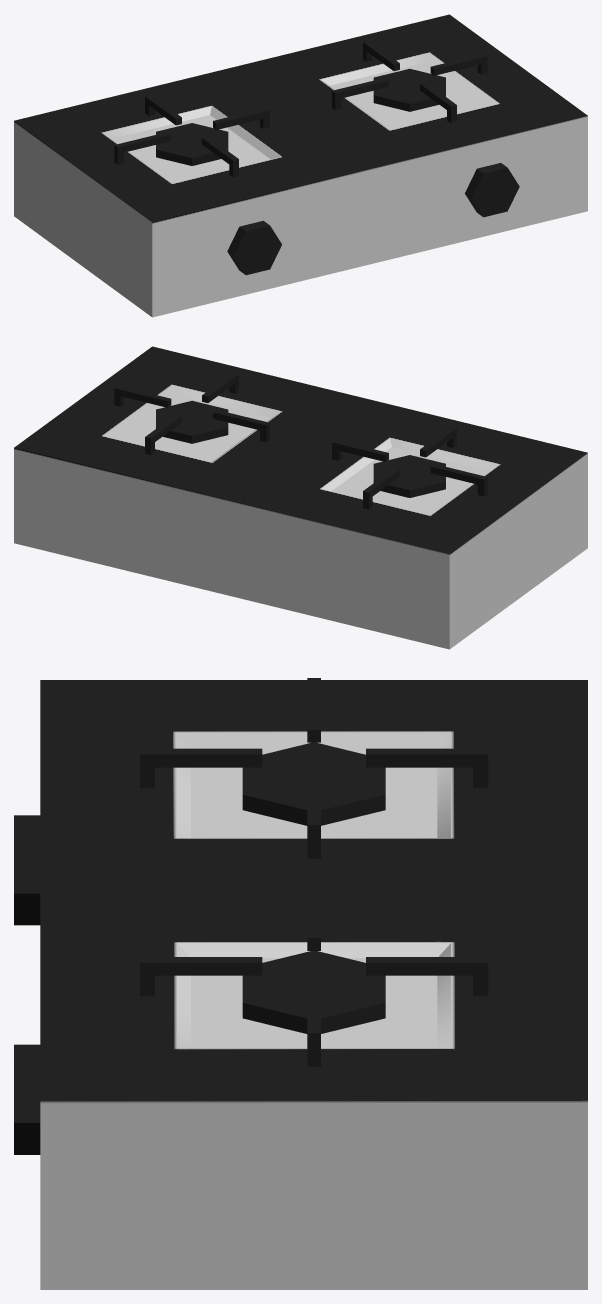
Rendered from stove2_PLY.fbx.
3 views of the same model, one above another, from view 1: azimuth 30°, elevation 25°; view 2: azimuth 150°, elevation 25°; view 3: azimuth 270°, elevation 25° (orthographic). The views are drawn at different scales.
Visible parts, largest first — view 1: stove2_PLY; view 2: stove2_PLY; view 3: stove2_PLY.
Part boxes in pixels (x1,y1,x2,y2): stove2_PLY: (14,14,587,317); stove2_PLY: (14,346,587,649); stove2_PLY: (14,678,587,1289).
Size of the model in its own units: 3.59 by 0.8956 by 2.07.
